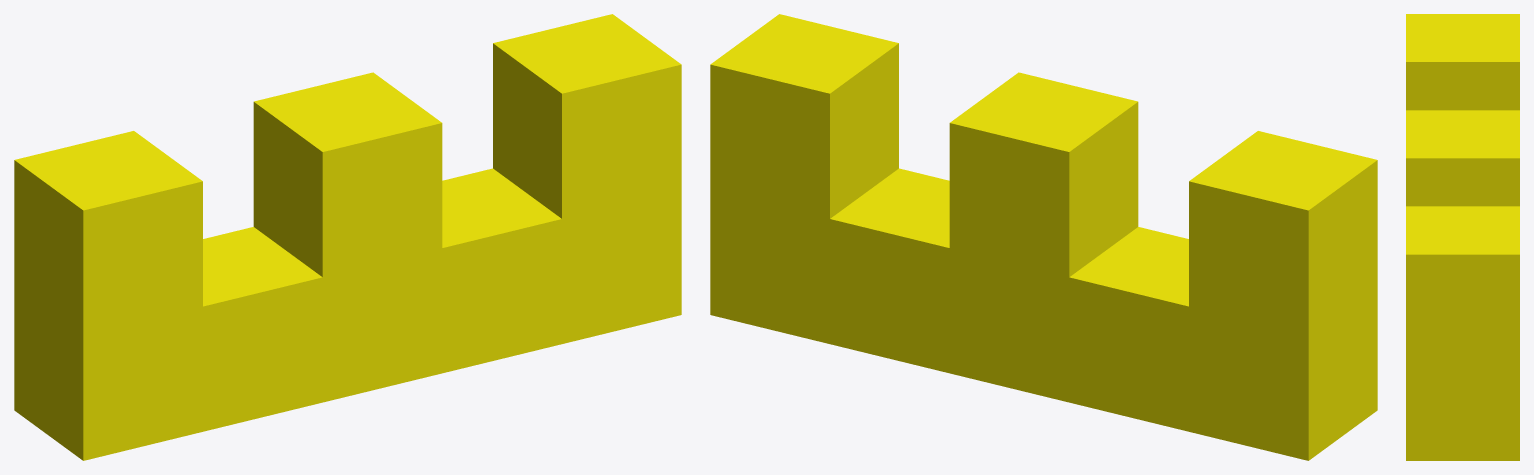
File: YellowCube.FBX
3 views of the same model, side by side, from view 1: azimuth 30°, elevation 25°; view 2: azimuth 150°, elevation 25°; view 3: azimuth 270°, elevation 25° (orthographic). The views are drawn at different scales.
Parts seen in each view (by area): view 1: Boxed001; view 2: Boxed001; view 3: Boxed001.
Part boxes in pixels (x1=…): Boxed001: x1=14, y1=14, x2=681, y2=460; Boxed001: x1=710, y1=14, x2=1377, y2=460; Boxed001: x1=1406, y1=14, x2=1519, y2=460.
Bounding box in the file's own units: 50 × 20 × 10.
